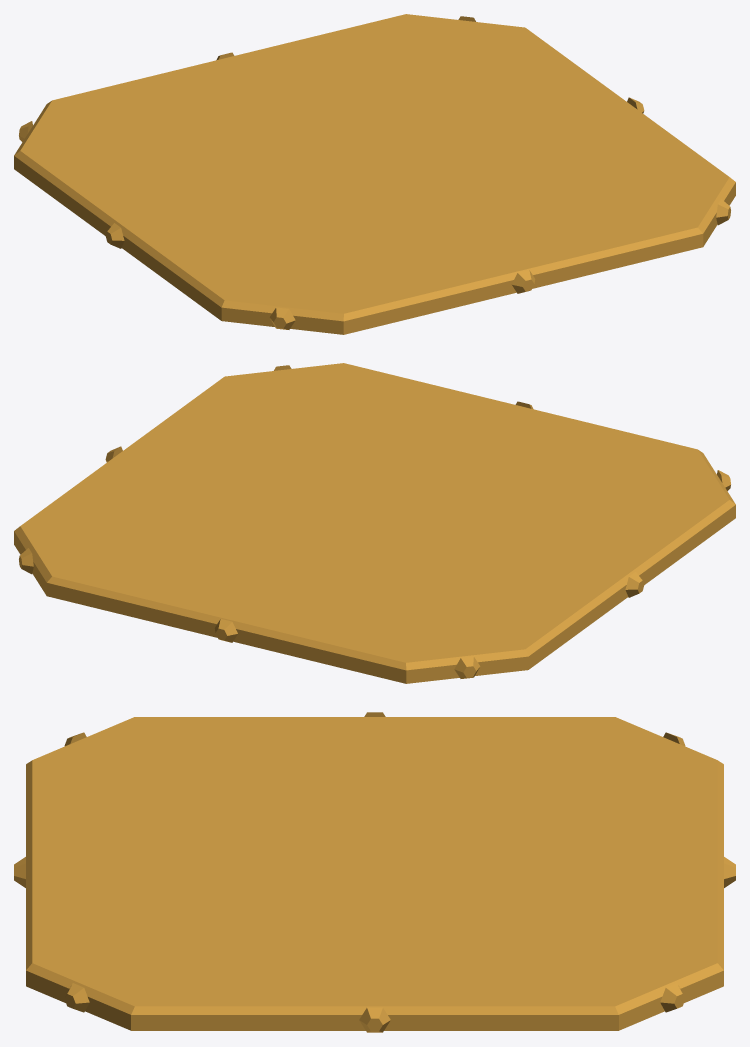
Rendered from GunKit3.obj.
The picture shows the model from 3 angles, top to bottom: view 1: azimuth 30°, elevation 25°; view 2: azimuth 150°, elevation 25°; view 3: azimuth 270°, elevation 25°; orthographic projection. The views are drawn at different scales.
Visible parts, largest first — view 1: GunKit3; view 2: GunKit3; view 3: GunKit3.
Boxes of the visible parts, x1,y1,x2,y2 form: GunKit3: (14, 14, 735, 334); GunKit3: (14, 363, 735, 683); GunKit3: (14, 712, 735, 1032).
Size of the model in its own units: 0.906 by 0.0346 by 0.906.
